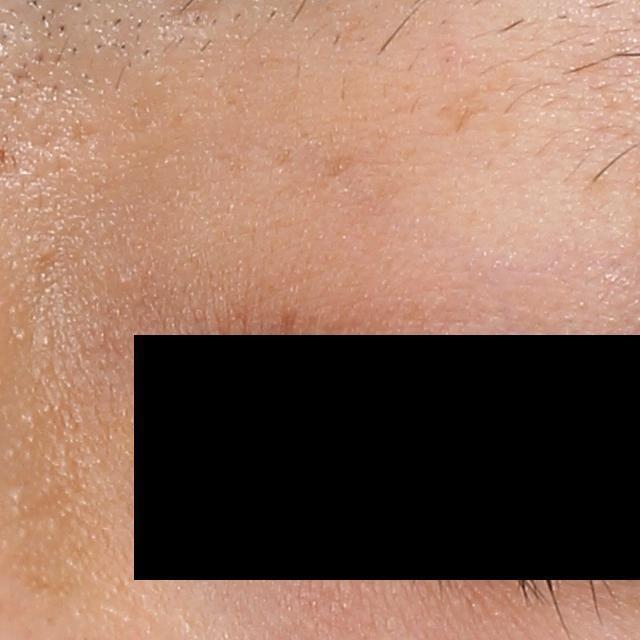comedo: (116, 273, 133, 290)
